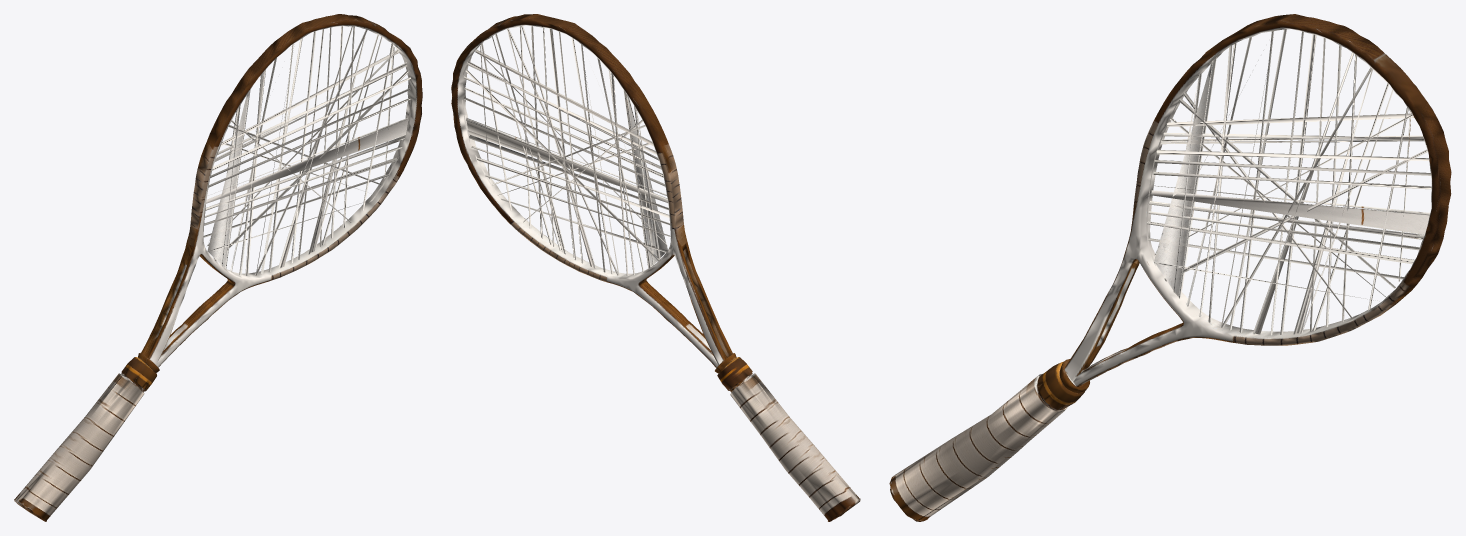
The model's file is tennis_racket.glb.
3 renders of one model, left to right at view 1: azimuth 30°, elevation 25°; view 2: azimuth 150°, elevation 25°; view 3: azimuth 330°, elevation 25°, orthographic. The views are drawn at different scales.
Visible parts, largest first — view 1: Mesh_0.004; view 2: Mesh_0.004; view 3: Mesh_0.004.
Boxes of the visible parts, x1,y1,x2,y2 form: Mesh_0.004: (14, 14, 422, 521); Mesh_0.004: (451, 14, 860, 521); Mesh_0.004: (889, 14, 1451, 521).
Size of the model in its own units: 0.6694 by 0.68 by 0.0513.
1 material, 1 textured.
